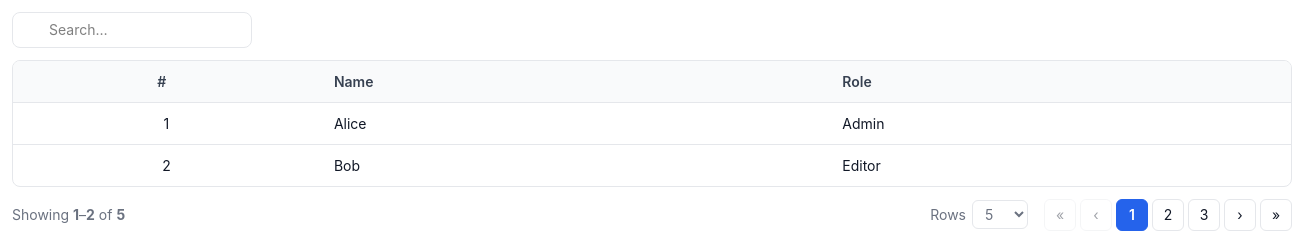
DataTableComponent › Pagination › advances page when next button is clicked
Click the button named "Next page".
click(1240, 215)  # box [1224,199,1256,231]
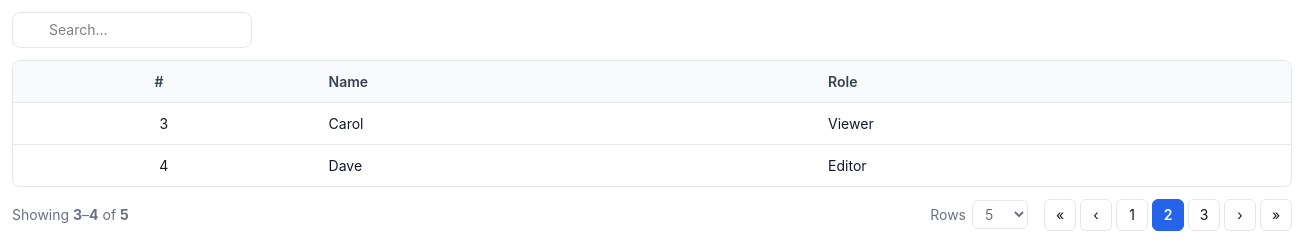
Expected: the row with class "dt-row" shows "Carol", [329,115,364,132]
